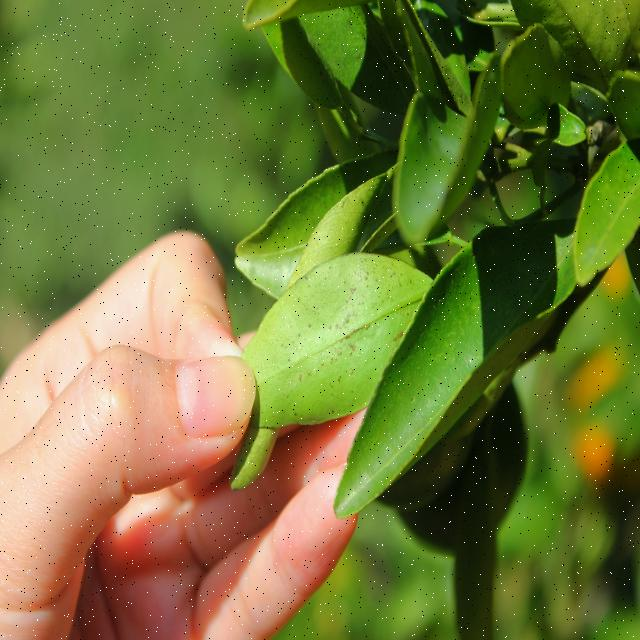melanose: (263, 257, 432, 422)
